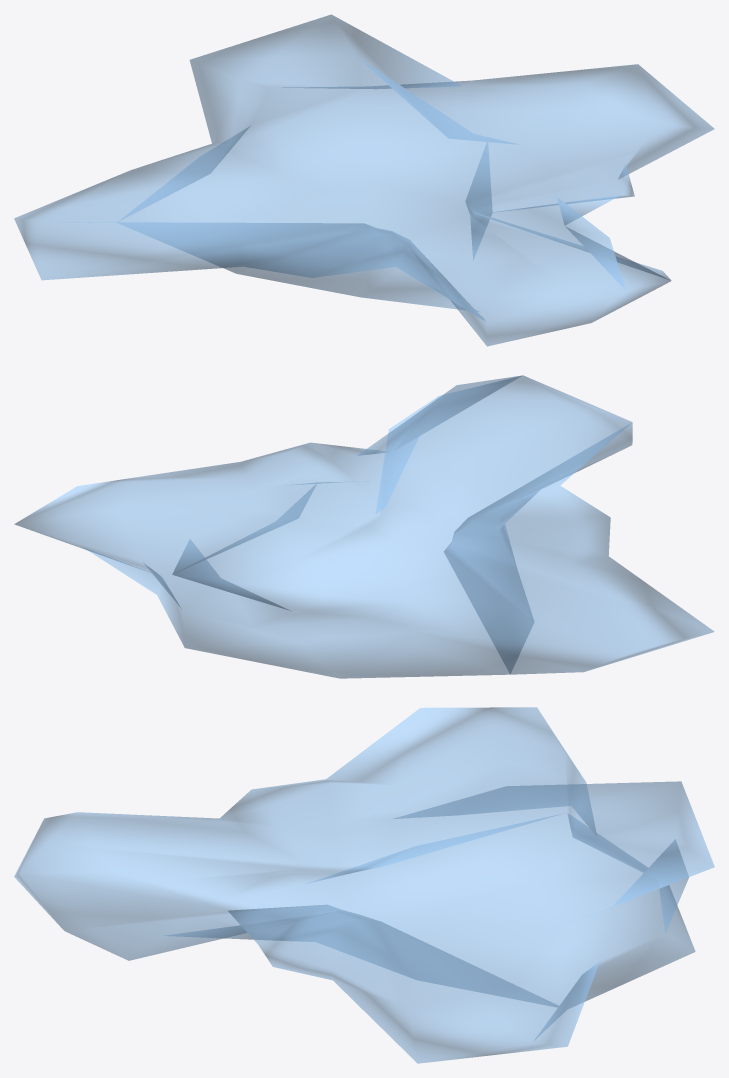
The model's file is ssmonolith_shield.gltf.
3 views of the same model, one above another, from view 1: azimuth 30°, elevation 25°; view 2: azimuth 150°, elevation 25°; view 3: azimuth 270°, elevation 25° (orthographic). The views are drawn at different scales.
Visible parts, largest first — view 1: ssmonolith.shield; view 2: ssmonolith.shield; view 3: ssmonolith.shield.
Part boxes in pixels (x1,y1,x2,y2): ssmonolith.shield: (14, 14, 714, 346); ssmonolith.shield: (14, 375, 714, 678); ssmonolith.shield: (14, 707, 714, 1063).
Bounding box in the file's own units: 43.75 × 7.3 × 37.73.
